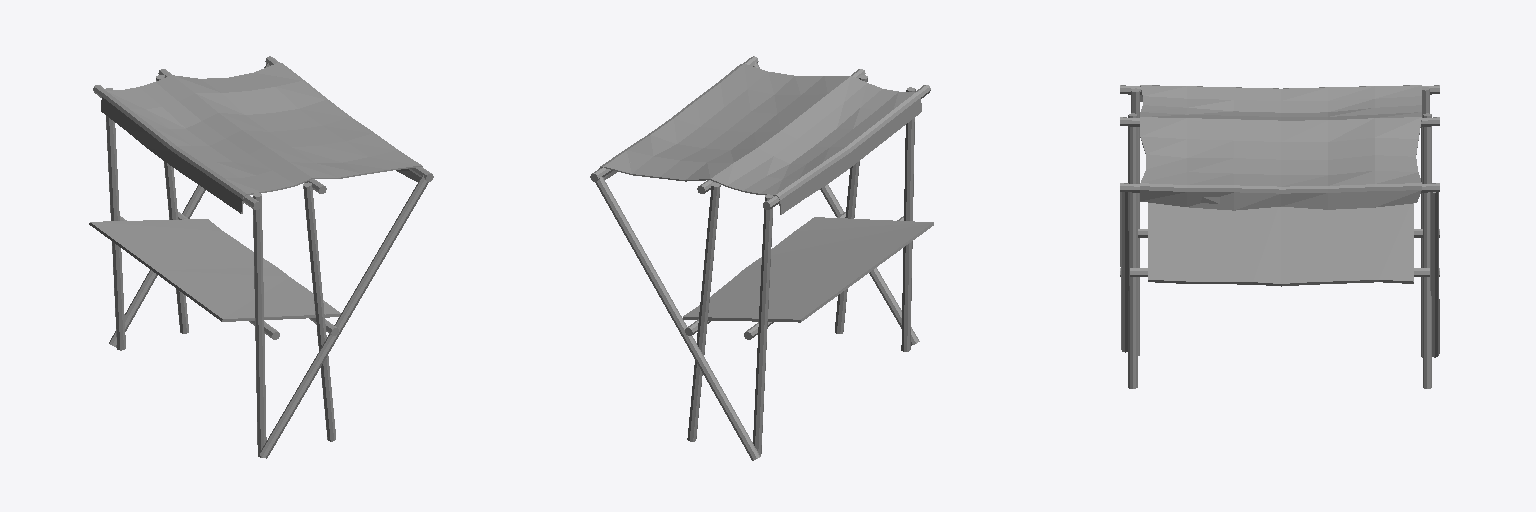
The model's file is booth01_LOD01.obj.
3 renders of one model, left to right at view 1: azimuth 30°, elevation 25°; view 2: azimuth 150°, elevation 25°; view 3: azimuth 270°, elevation 25°, orthographic.
Parts seen in each view (by area): view 1: booth01_LOD01_Cylinder; view 2: booth01_LOD01_Cylinder; view 3: booth01_LOD01_Cylinder.
Part boxes in pixels (bbox=[...]): booth01_LOD01_Cylinder: bbox=[89, 56, 433, 458]; booth01_LOD01_Cylinder: bbox=[590, 56, 933, 460]; booth01_LOD01_Cylinder: bbox=[1120, 85, 1439, 388].
Size of the model in its own units: 1.6 by 2.02 by 2.22.